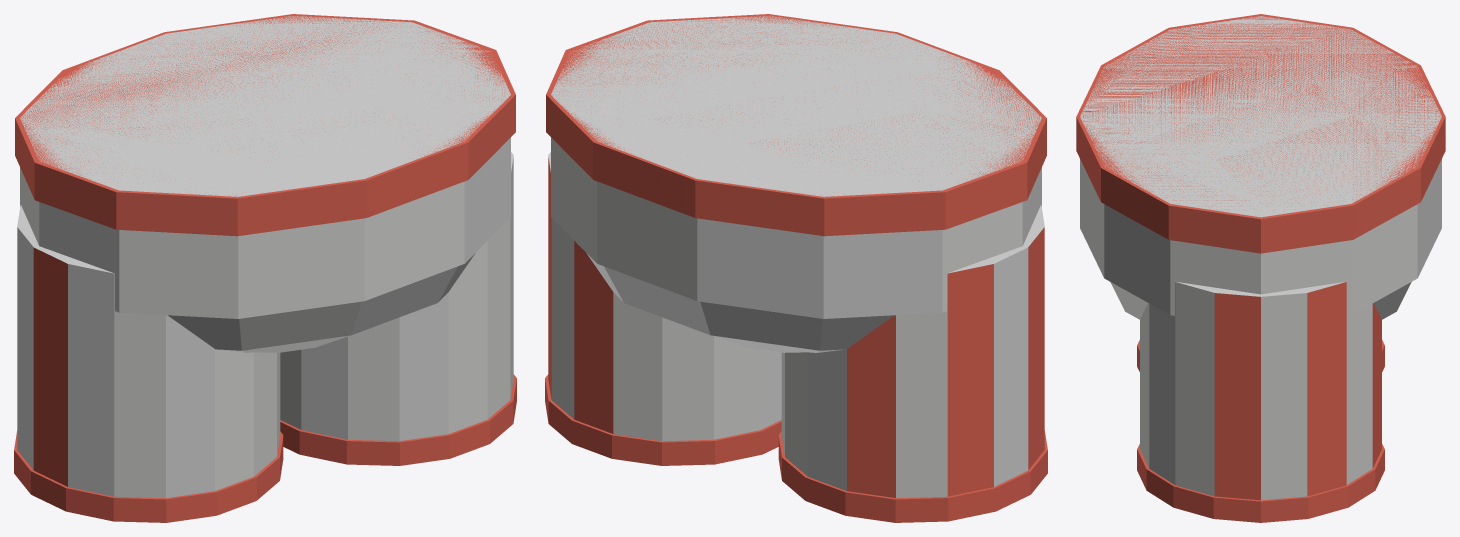
Rendered from pants_football.glb.
3 views of the same model, side by side, from view 1: azimuth 30°, elevation 25°; view 2: azimuth 150°, elevation 25°; view 3: azimuth 270°, elevation 25° (orthographic). The views are drawn at different scales.
Parts seen in each view (by area): view 1: Torso, LegL, LegR; view 2: Torso, LegL, LegR; view 3: Torso, LegR.
Boxes of the visible parts, x1,y1,x2,y2 form: Torso: [15, 14, 515, 352]; LegL: [14, 205, 283, 522]; LegR: [280, 152, 516, 465]; Torso: [546, 14, 1046, 352]; LegL: [778, 205, 1047, 522]; LegR: [545, 152, 781, 465]; Torso: [1076, 14, 1445, 319]; LegR: [1137, 281, 1384, 522].
Bounding box in the file's own units: 0.522 × 0.3525 × 0.3906.
